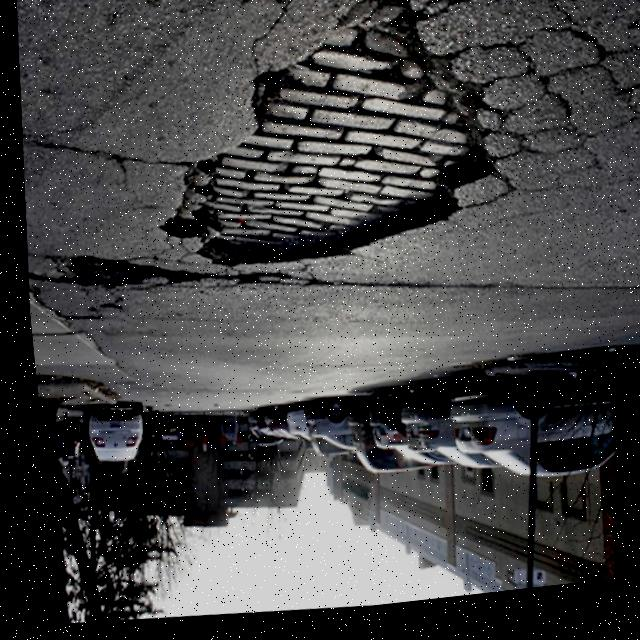Pothole: (155, 0, 511, 303), (18, 231, 164, 324)
